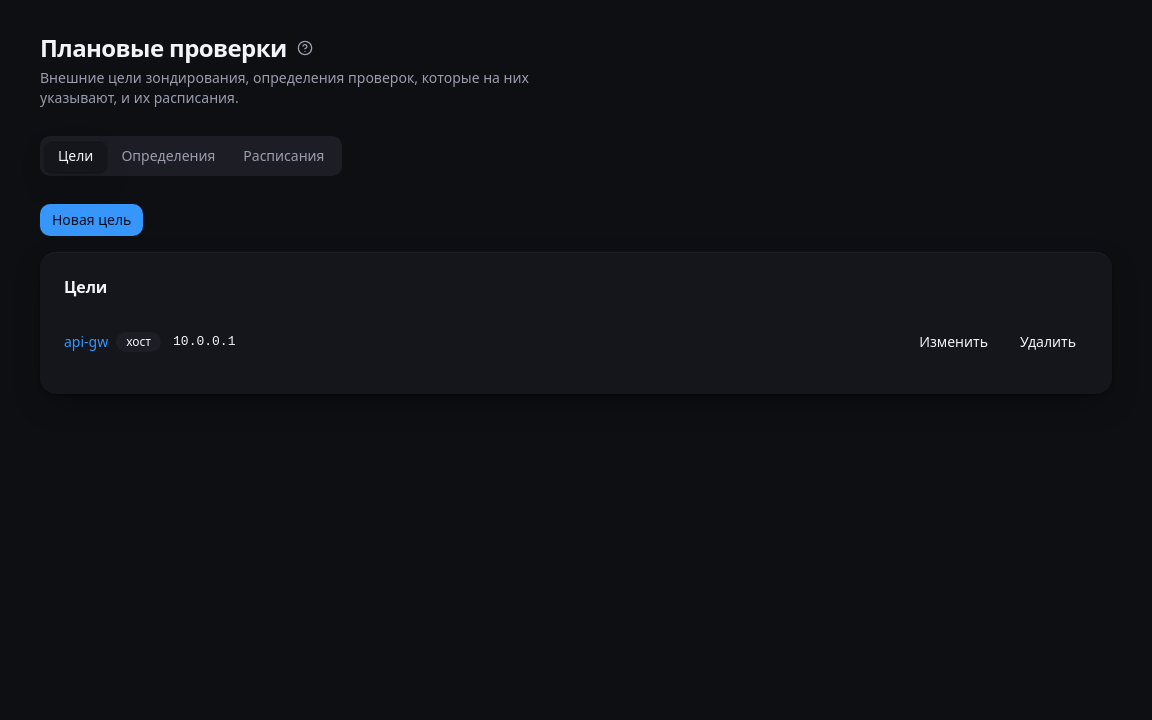
it: TargetsPage — kinds in Russian › translates target, source, destination and schedule kinds in rows and pickers
The width and height of the screenshot is (1152, 720).
Expected: the text "хост" is shown, [116,332,161,352]
Click the radio button labelled "Определения": {"x": 168, "y": 156} [107,140,229,172]
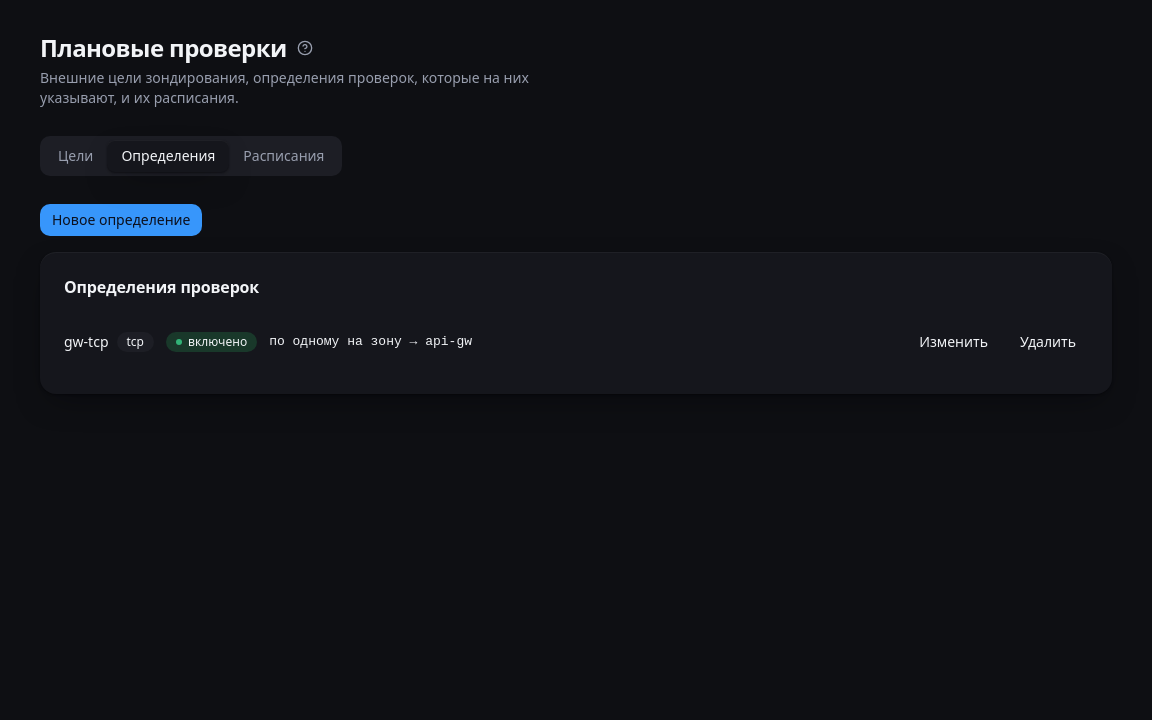
Result: the text "по одному на зону → api-gw" is shown at [269,334,472,349]
Click the button "Новое определение": {"x": 121, "y": 220} [40,204,202,236]
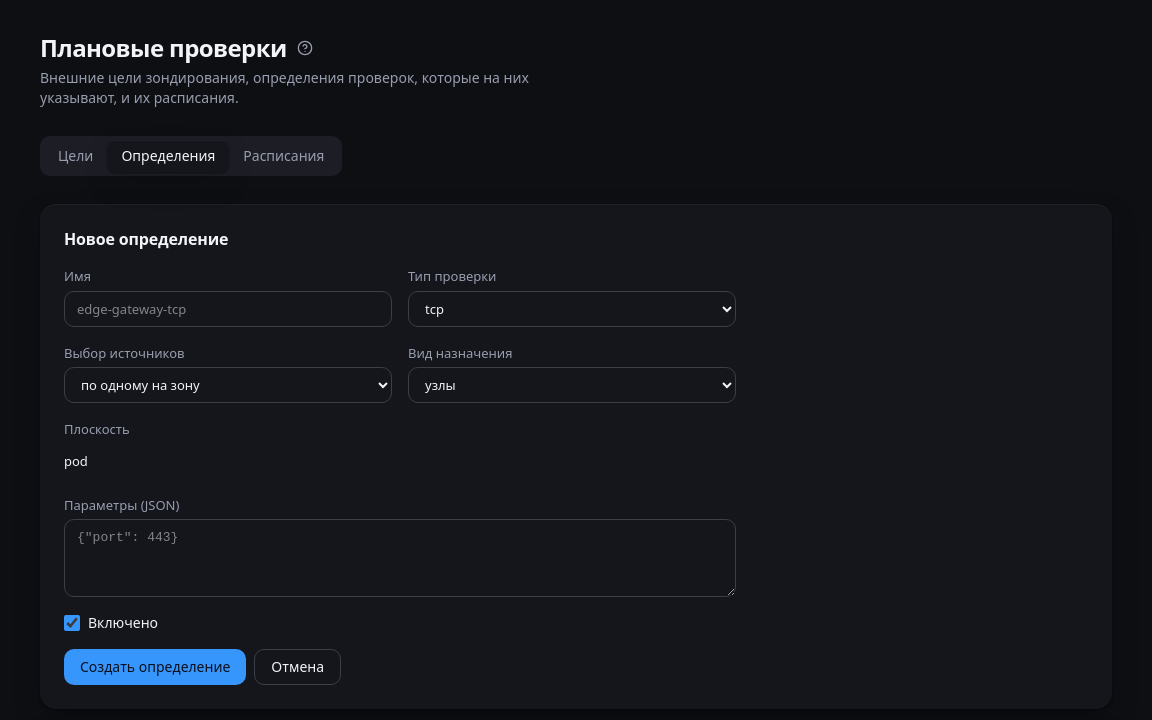
Click the radio button labelled "Расписания": {"x": 284, "y": 156} [229,140,338,172]
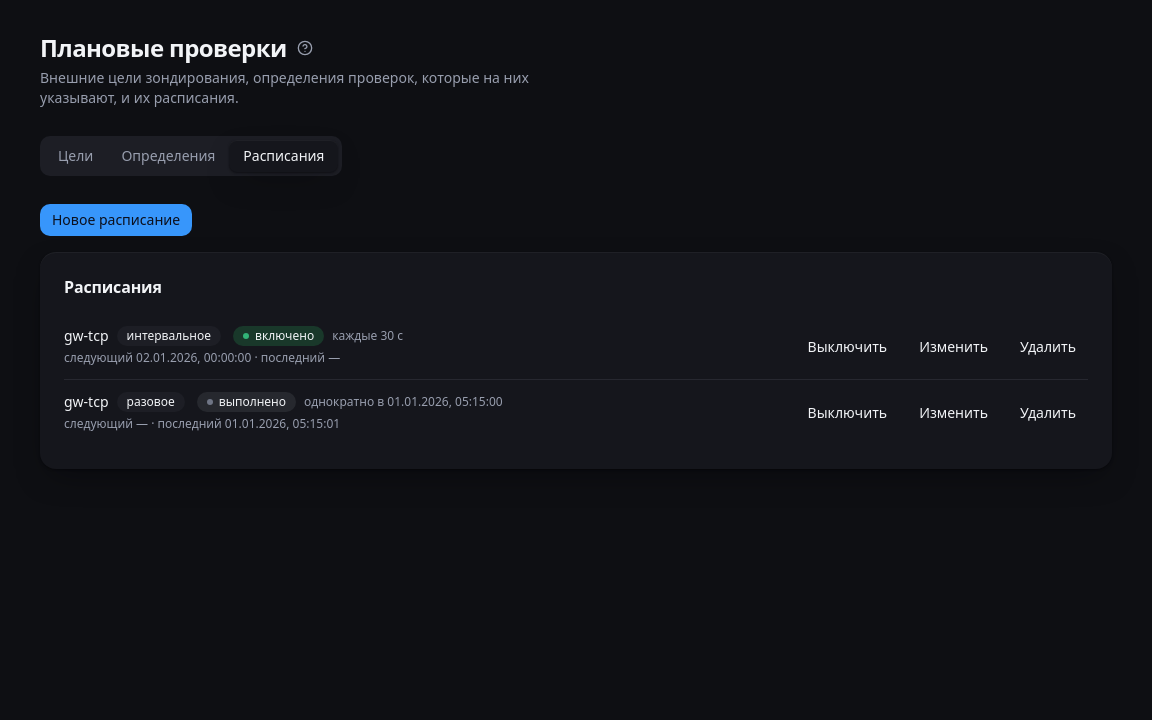
Result: the text "интервальное" is shown at [116,326,221,346]
Result: the text "разовое" is shown at [116,392,185,412]
Result: the text "выполнено" is shown at [197,392,296,412]
